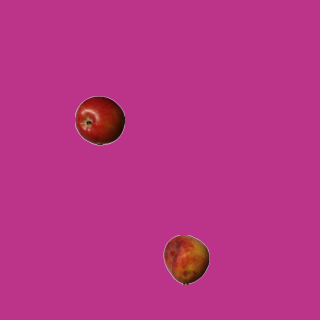Apple Braeburn: (74, 95, 124, 145)
Peach: (161, 234, 211, 284)
